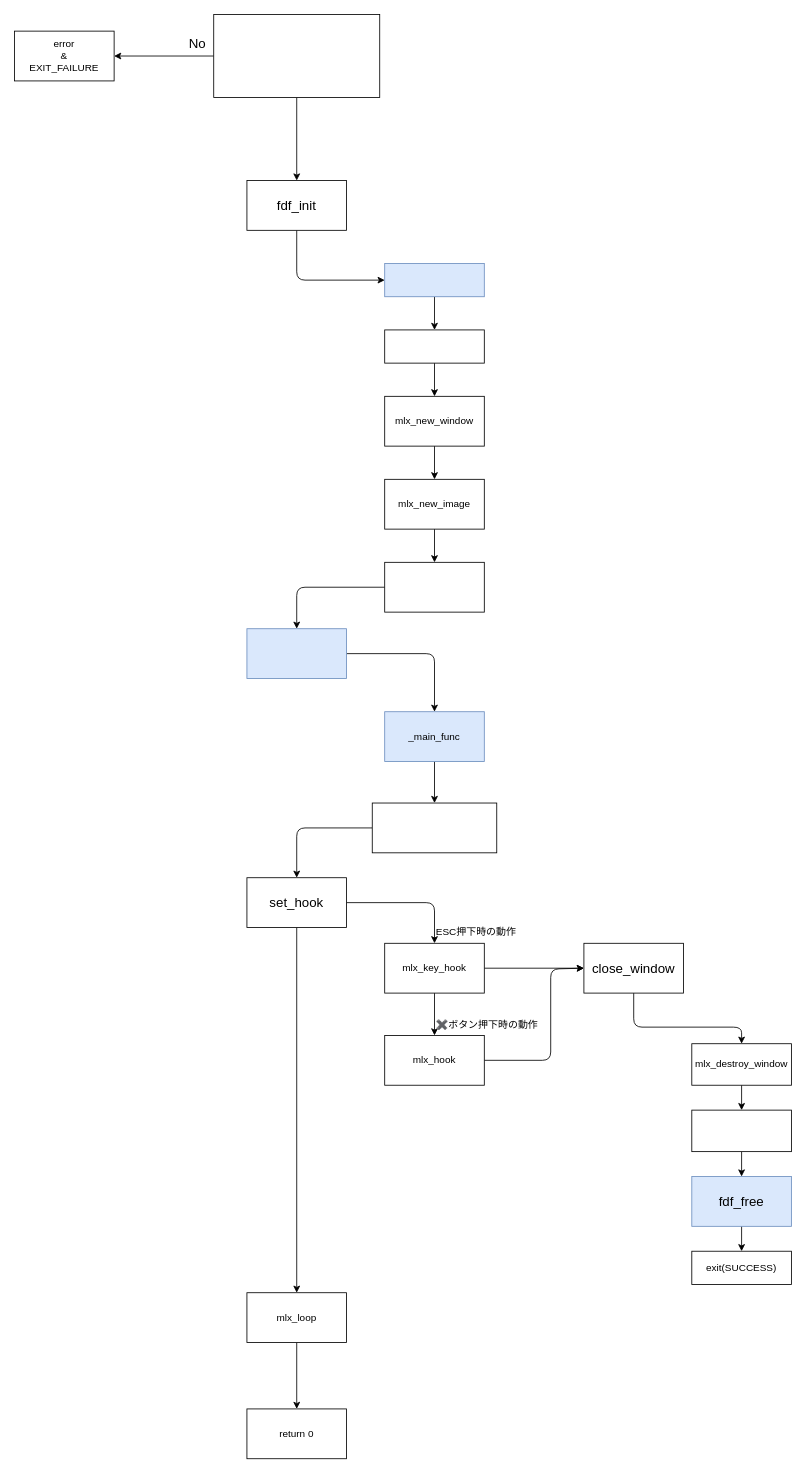
Image size: 806x1473. Some labels were removed from this diagram. Each missing label, with the centre of its shape:
"_create_map" belongs at point (434, 280).
"command line argv[0] = ./fdf argv[1] = *.fdf" belongs at point (296, 56).
"drawing" belongs at point (296, 653).
"mlx_destroy_display" belongs at point (741, 1130).
"mlx_get_data_addr" belongs at point (434, 586).
"mlx_init" belongs at point (434, 346).
"mlx_put_image_to_window" belongs at point (434, 827).
